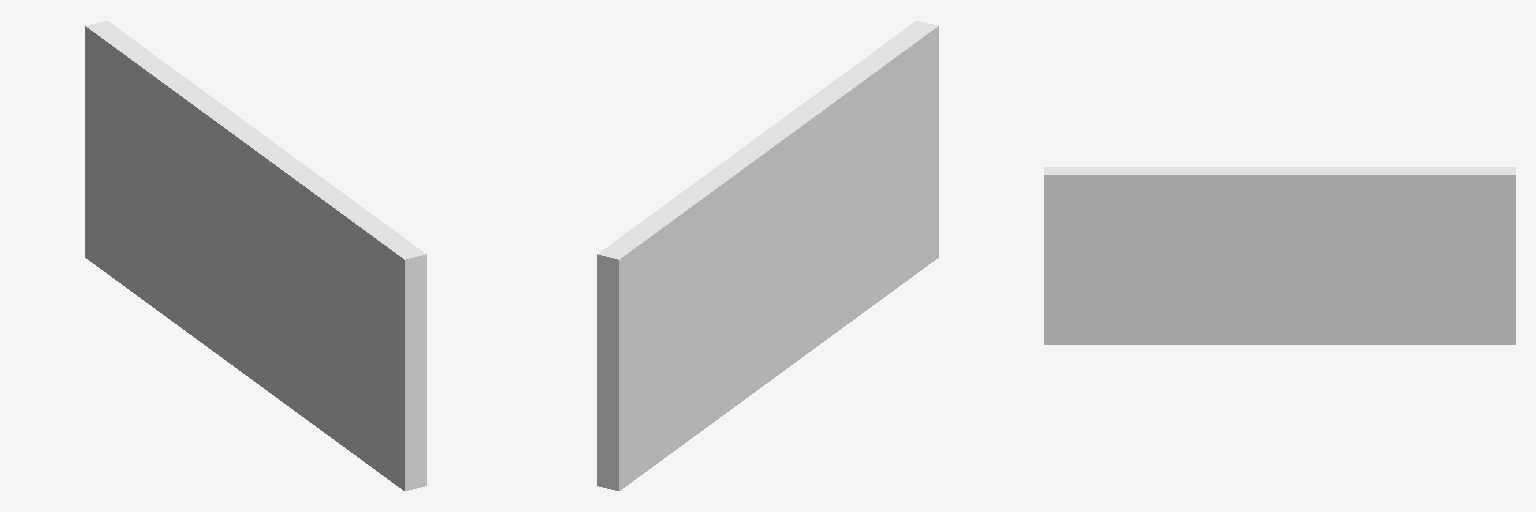
The robot description file, URDF, robot "slab2":
<robot name="slab2">
  <link name="slab2">

    <inertial>
      <origin xyz="0 0 0" />
      <mass value="0.1" />
      <inertia  ixx="0.00003375" ixy="0.0"  ixz="0.0"  iyy="0.00003375"  iyz="0.0"  izz="0.00003375" />
    </inertial>

    <visual>
      <origin xyz="0 0 0"/>
      <geometry>
        <box size="0.02 0.50 0.2" />
      </geometry>
      <material name="white">
        <color rgba="1.0 1.0 1.0 1.0"/>
      </material>
    </visual>

    <collision>
      <origin xyz="0 0 0"/>
      <geometry>
        <box size="0.02 0.50 0.2" />
      </geometry>
    </collision>
  </link>
</robot>

--- Render facts (derived) ---
3 views of the same robot in one strip: view 1: azimuth 30°, elevation 25°; view 2: azimuth 150°, elevation 25°; view 3: azimuth 270°, elevation 25° (orthographic).
Robot: slab2 — 1 links, 0 joints (none); root link slab2; default pose: every joint at zero.
Links seen in each view (by area): view 1: slab2; view 2: slab2; view 3: slab2.
Link boxes in pixels (<box>): slab2: <box>85,21,426,490</box>; slab2: <box>597,21,938,490</box>; slab2: <box>1044,167,1515,344</box>.
Bounding box of the posed robot: 0.02 × 0.5 × 0.2 m (x, y, z).
Geometry: primitives only (box / cylinder / sphere), no mesh files.